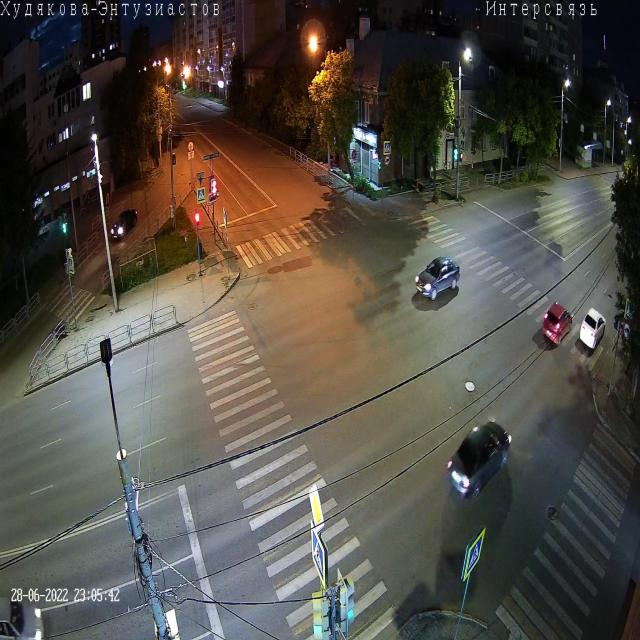car: (446, 419, 513, 501), (0, 591, 45, 639), (415, 255, 460, 301), (542, 300, 572, 348), (579, 306, 606, 351), (110, 207, 138, 241)
